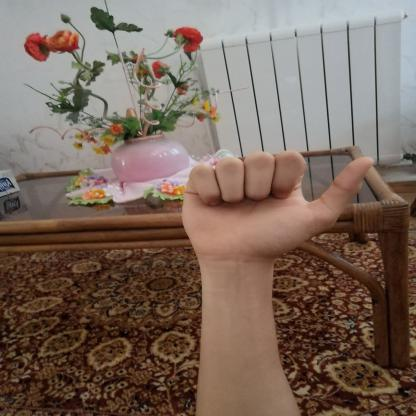DAD: (167, 143, 386, 274)
